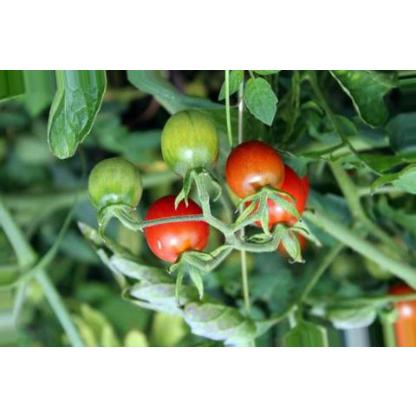tomato: (136, 192, 222, 270), (150, 102, 226, 186), (226, 130, 290, 208), (86, 147, 152, 219), (246, 160, 308, 230)
